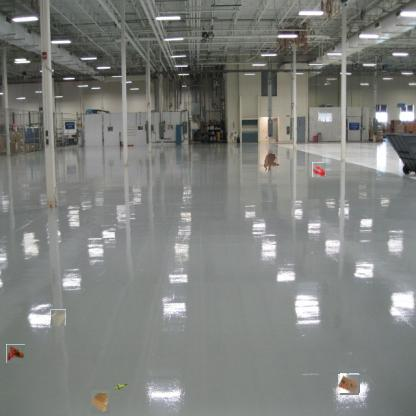dirty: (92, 390, 112, 414), (339, 374, 360, 394), (6, 344, 25, 363), (50, 309, 66, 326), (113, 380, 127, 394)
liquid: (262, 152, 280, 172), (312, 162, 325, 177)
